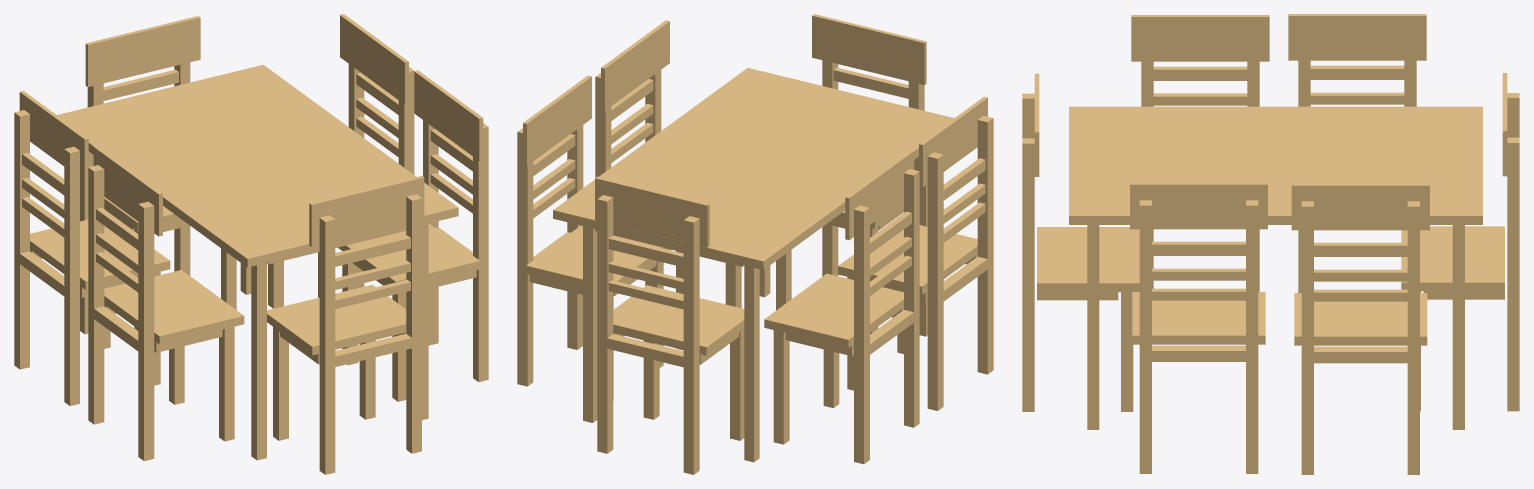
Rendered from dining_table_set.gltf.
3 views of the same model, side by side, from view 1: azimuth 30°, elevation 25°; view 2: azimuth 150°, elevation 25°; view 3: azimuth 270°, elevation 25° (orthographic). The views are drawn at different scales.
Visible parts, largest first — view 1: mesh855033435, mesh1898937961, mesh689985168, mesh14001241, mesh128594385, mesh618971222, mesh837925054; view 2: mesh855033435, mesh618971222, mesh14001241, mesh689985168, mesh837925054, mesh1898937961, mesh128594385; view 3: mesh855033435, mesh837925054, mesh128594385, mesh1898937961, mesh14001241, mesh689985168, mesh618971222.
Boxes of the visible parts, box(x1,y1,x2,y2) form: mesh855033435: box(57, 64, 458, 460); mesh1898937961: box(267, 176, 424, 474); mesh689985168: box(88, 146, 244, 461); mesh14001241: box(14, 91, 170, 405); mesh128594385: box(338, 70, 488, 401); mesh618971222: box(85, 16, 236, 330); mesh837925054: box(268, 14, 414, 308); mesh855033435: box(553, 68, 953, 462); mesh618971222: box(595, 176, 744, 474); mesh14001241: box(764, 150, 919, 464); mesh689985168: box(838, 96, 993, 410); mesh837925054: box(517, 75, 671, 401); mesh1898937961: box(776, 14, 926, 334); mesh128594385: box(595, 20, 741, 350); mesh855033435: box(1069, 106, 1482, 429); mesh837925054: box(1291, 183, 1429, 474); mesh128594385: box(1130, 182, 1267, 473); mesh1898937961: box(1022, 73, 1139, 411); mesh14001241: box(1288, 14, 1426, 292); mesh689985168: box(1131, 15, 1269, 291); mesh618971222: box(1401, 73, 1519, 411).
Bounding box in the file's own units: 1.78 × 1.34 × 2.09.
